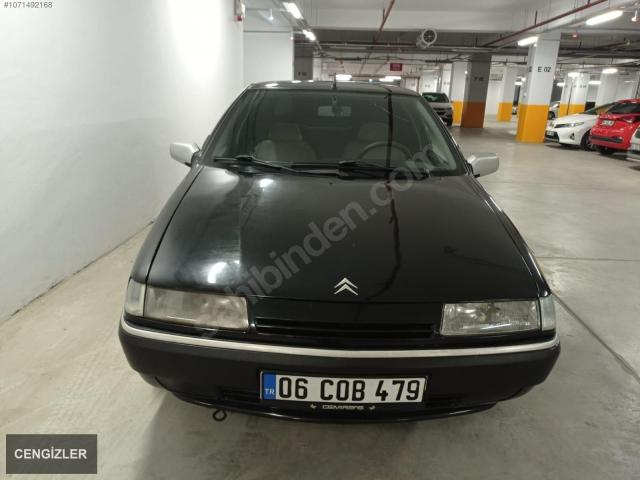plaka: (261, 372, 426, 403)
